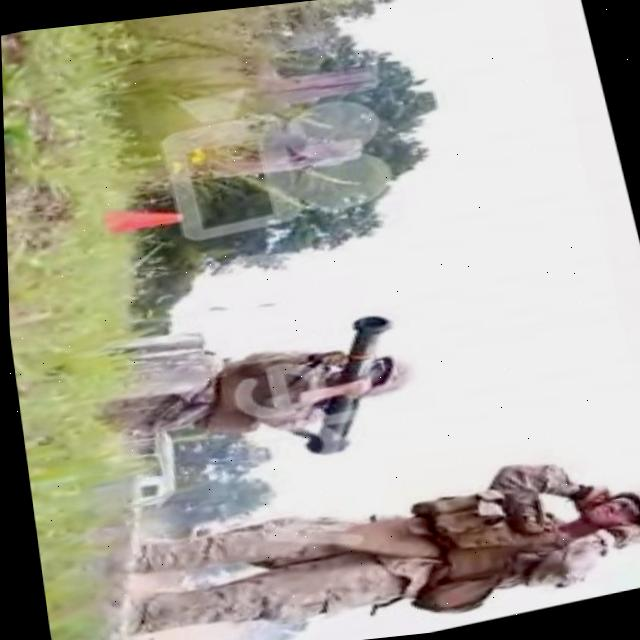rocket: (273, 306, 423, 458)
